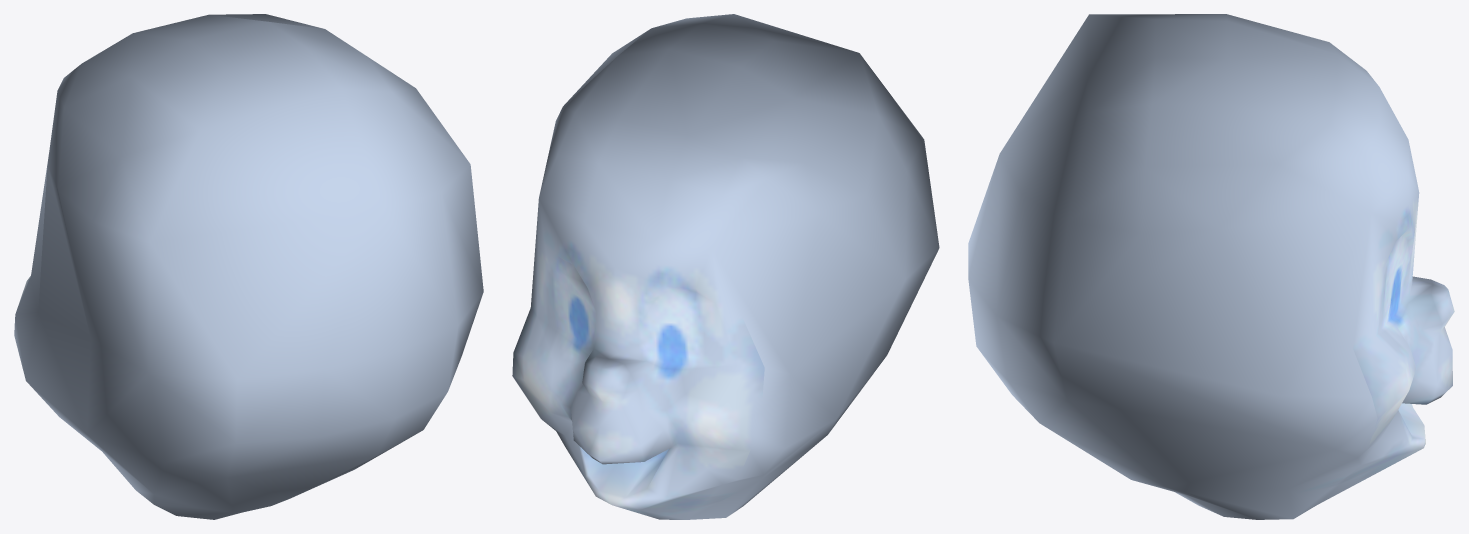
File: casper.ico.obj
3 views of the same model, side by side, from view 1: azimuth 30°, elevation 25°; view 2: azimuth 150°, elevation 25°; view 3: azimuth 270°, elevation 25° (orthographic). The views are drawn at different scales.
Bounding box in the file's own units: 2.47 × 3.16 × 3.05.
Materials: 1 (1 with a texture image).
